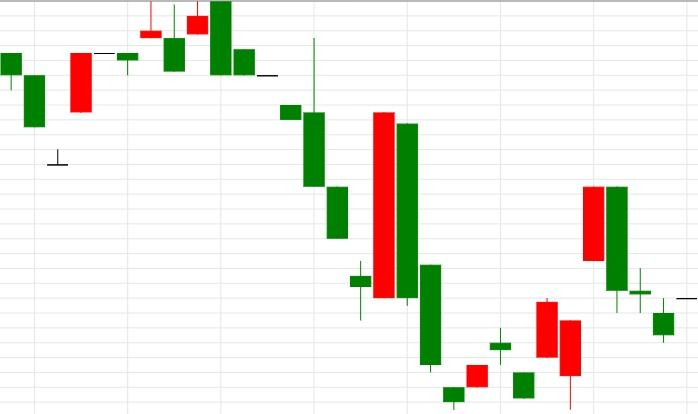bearish_engulfing_fall: (46, 0, 232, 166), (512, 186, 628, 410)
